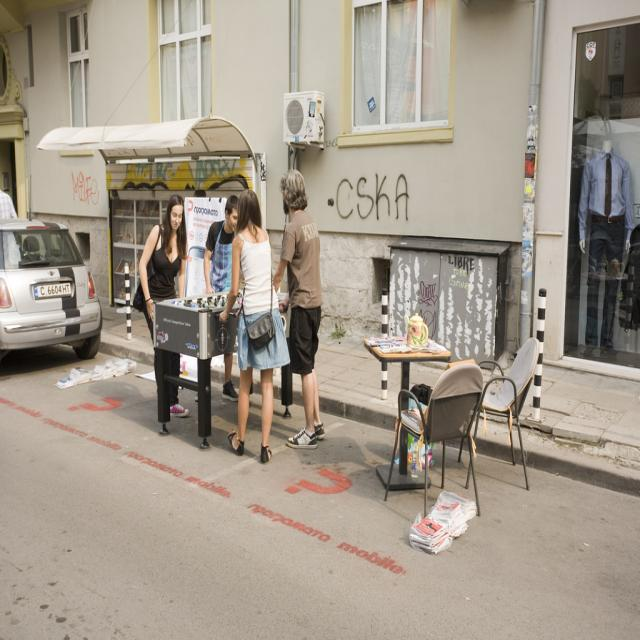other: (0, 219, 102, 361)
